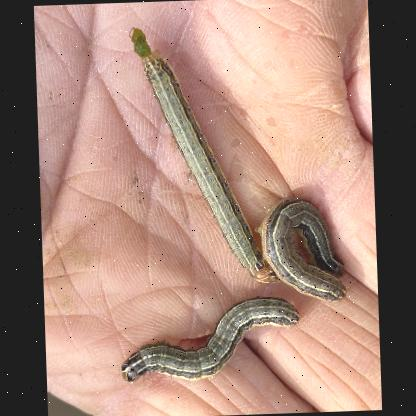Fall Armyworm Larvae: (127, 19, 284, 291), (115, 286, 309, 390), (250, 190, 353, 308)
